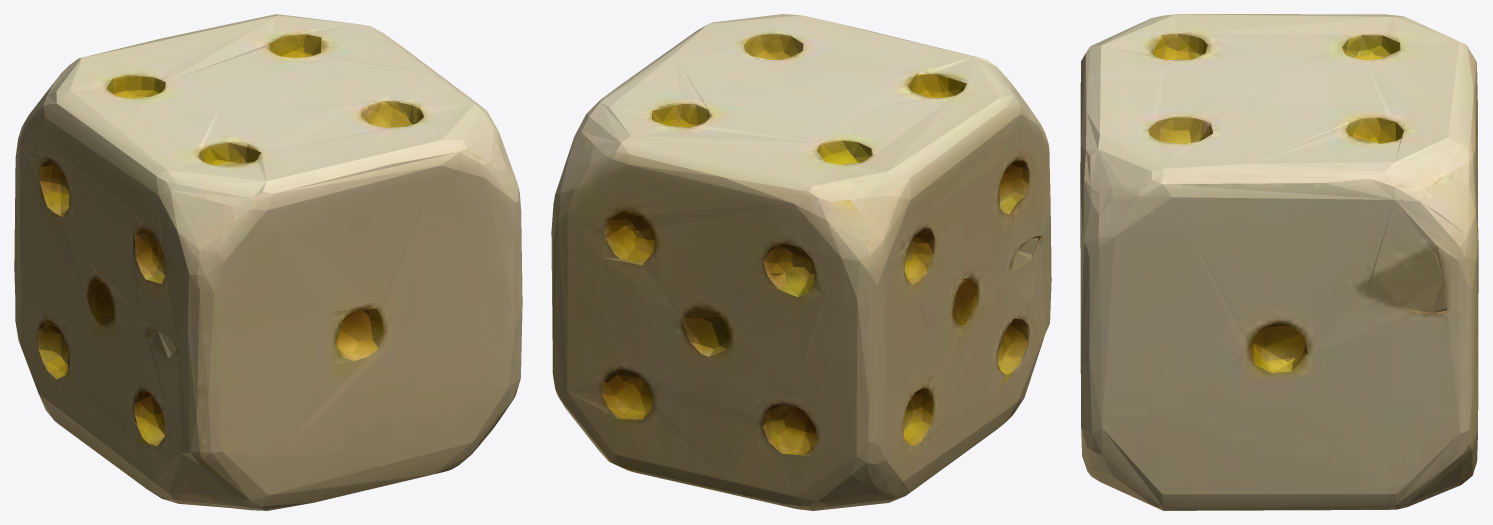
File: die.glb
3 views of the same model, side by side, from view 1: azimuth 30°, elevation 25°; view 2: azimuth 150°, elevation 25°; view 3: azimuth 270°, elevation 25° (orthographic). The views are drawn at different scales.
Visible parts, largest first — view 1: geometry_0; view 2: geometry_0; view 3: geometry_0.
Part boxes in pixels (<box>): geometry_0: <box>14,14,522,510</box>; geometry_0: <box>551,14,1051,510</box>; geometry_0: <box>1080,14,1478,510</box>.
Bounding box in the file's own units: 0.212 × 0.2052 × 0.2123.
1 material, 1 textured.
